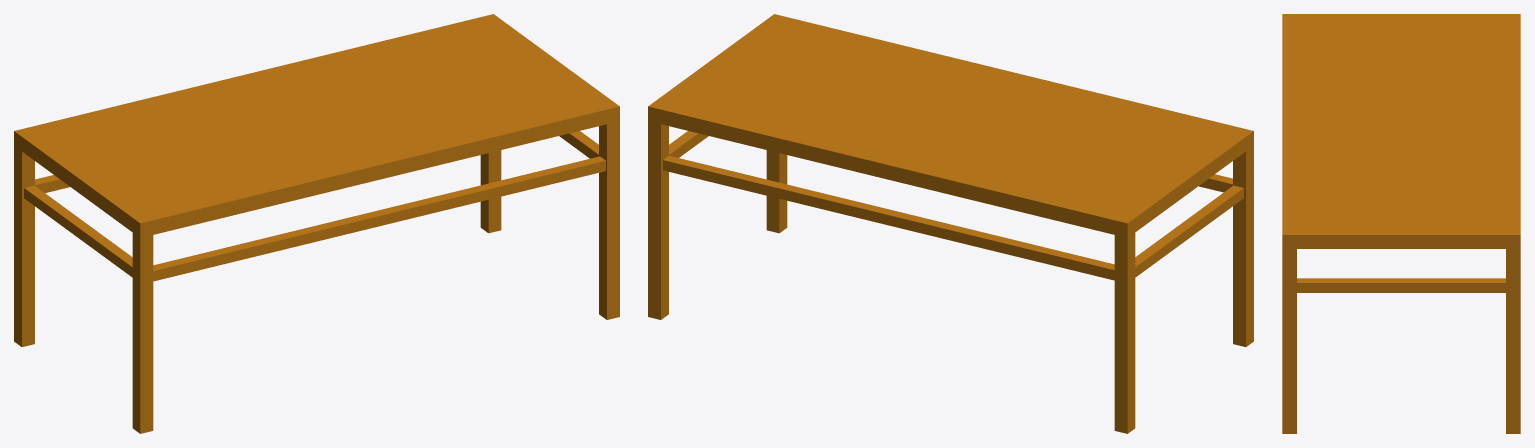
The model's file is Table.fbx.
The picture shows the model from 3 angles, left to right: view 1: azimuth 30°, elevation 25°; view 2: azimuth 150°, elevation 25°; view 3: azimuth 270°, elevation 25°; orthographic projection. The views are drawn at different scales.
Parts seen in each view (by area): view 1: Table; view 2: Table; view 3: Table.
Boxes of the visible parts, left/top/right/bottom form: Table: left=14, top=14, right=619, bottom=433; Table: left=648, top=14, right=1253, bottom=433; Table: left=1282, top=14, right=1520, bottom=433.
Bounding box in the file's own units: 604 × 253 × 276.
